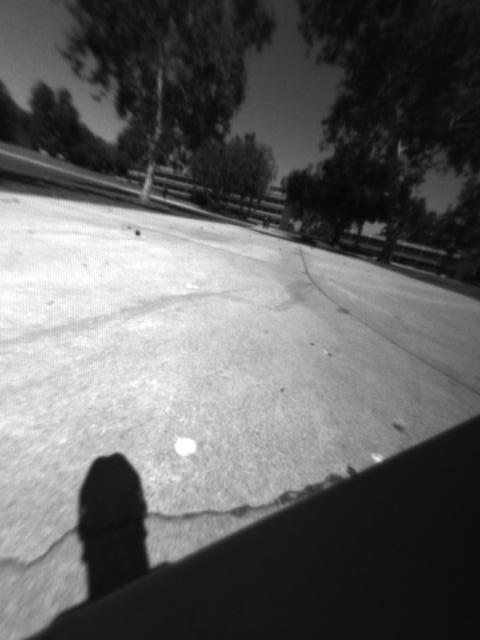dogtoy: (125, 222, 154, 245)
